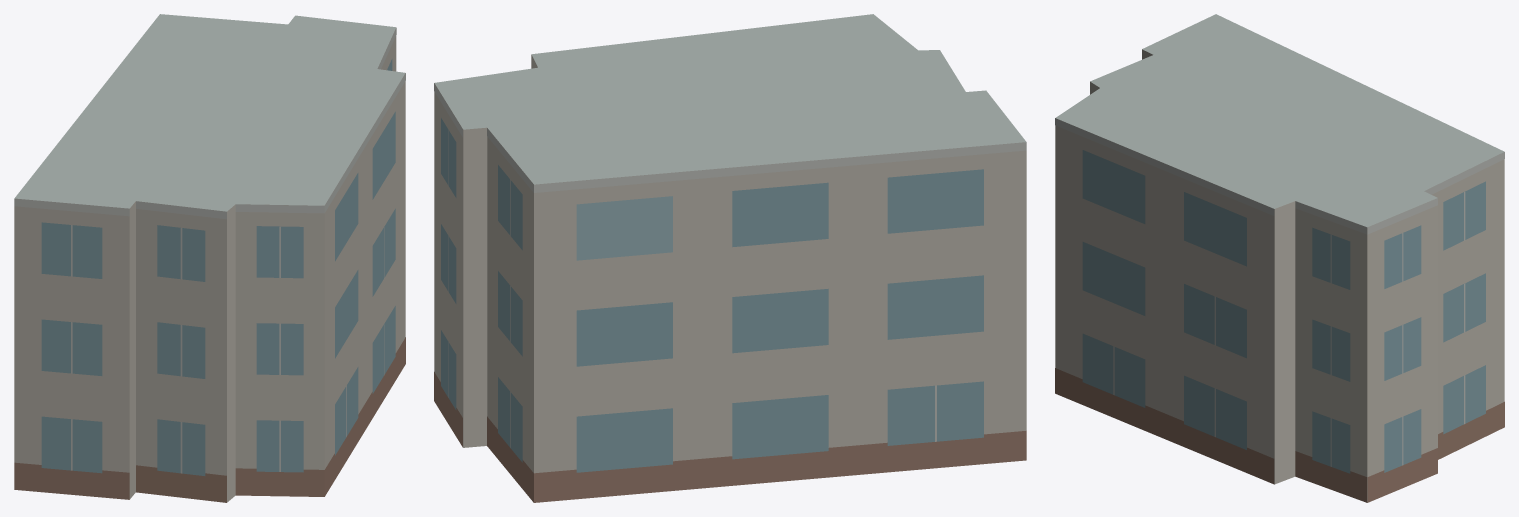
Rendered from survey-upis-32795294.glb.
3 renders of one model, left to right at view 1: azimuth 30°, elevation 25°; view 2: azimuth 150°, elevation 25°; view 3: azimuth 270°, elevation 25°, orthographic. The views are drawn at different scales.
Parts seen in each view (by area): view 1: survey-upis-32795294.tmp; view 2: survey-upis-32795294.tmp; view 3: survey-upis-32795294.tmp.
Boxes of the visible parts, x1,y1,x2,y2 form: survey-upis-32795294.tmp: (14, 14, 405, 502); survey-upis-32795294.tmp: (434, 14, 1026, 502); survey-upis-32795294.tmp: (1055, 14, 1504, 502).
Size of the model in its own units: 15.28 by 9.2 by 13.61.
